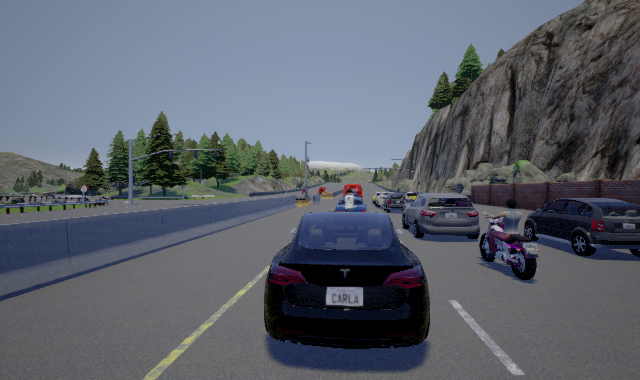motobike: (479, 198, 538, 282)
vehicle: (263, 211, 430, 349), (523, 195, 640, 259), (401, 191, 481, 240), (335, 197, 366, 212), (385, 192, 406, 212)
